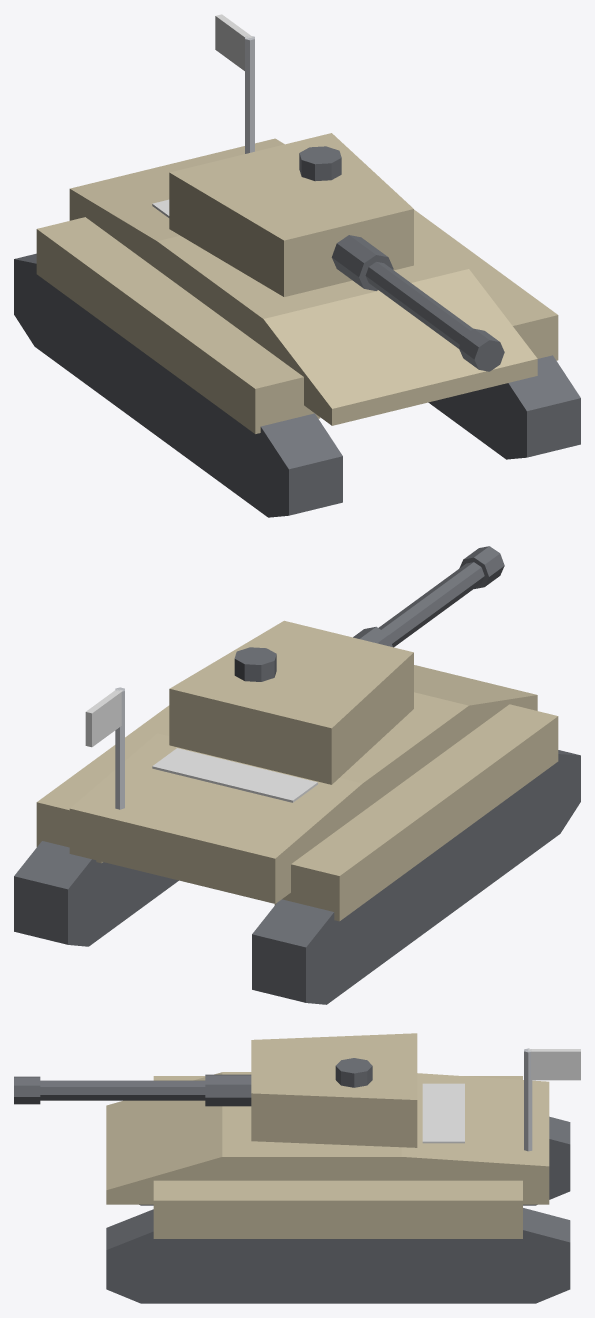
File: Modern Armor.glb
3 renders of one model, top to bottom at view 1: azimuth 30°, elevation 25°; view 2: azimuth 150°, elevation 25°; view 3: azimuth 270°, elevation 25°, orthographic. The views are drawn at different scales.
Visible parts, largest first — view 1: Body, Part1, Part2; view 2: Body, Part1, Part2; view 3: Body, Part1, Part2.
Part boxes in pixels (x1,y1,x2,y2): Body: [14, 14, 580, 517]; Part1: [169, 133, 413, 296]; Part2: [331, 235, 504, 371]; Body: [14, 665, 580, 1004]; Part1: [169, 620, 413, 784]; Part2: [353, 546, 504, 647]; Body: [106, 1048, 580, 1303]; Part1: [251, 1033, 417, 1147]; Part2: [14, 1074, 251, 1106].
Bounding box in the file's own units: 0.56 × 0.46 × 1.07.
